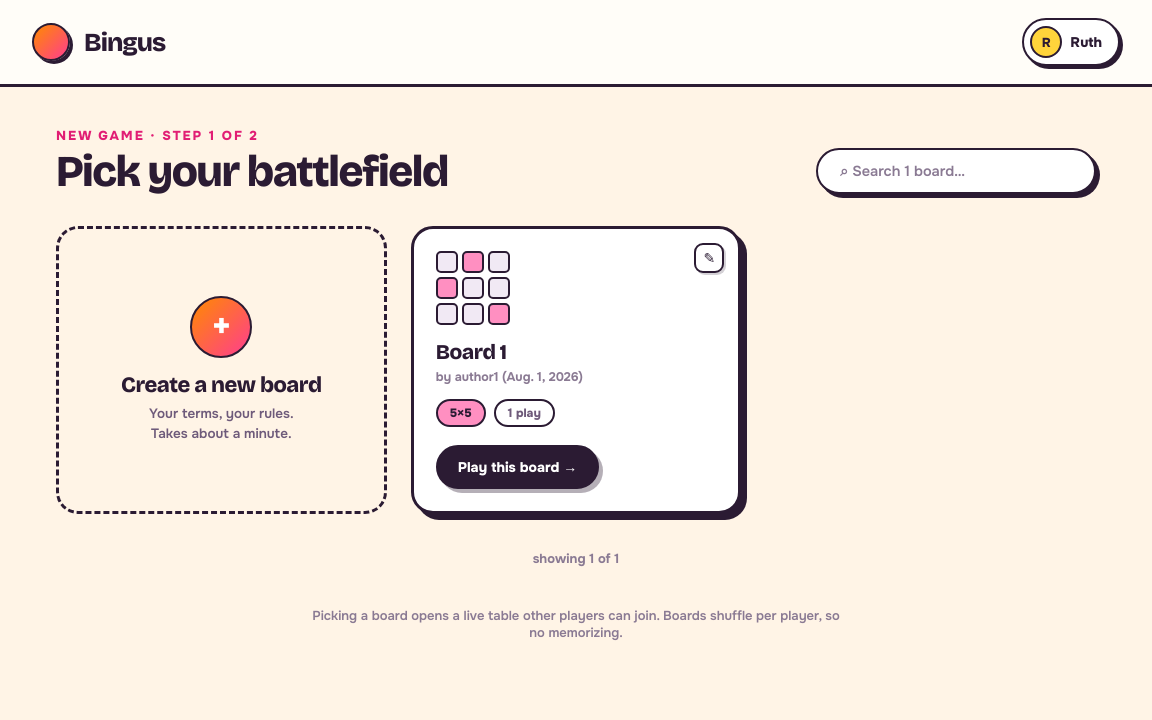
board archive › shows the no-match copy for an empty search result
This screenshot has width=1152, height=720.
Check: the heading "Board 1" is shown, box [436,339,507,365]
Step 1. Type "zzzzz" into the search field named "Search boards" → (956, 171), box [816,148,1096,194]
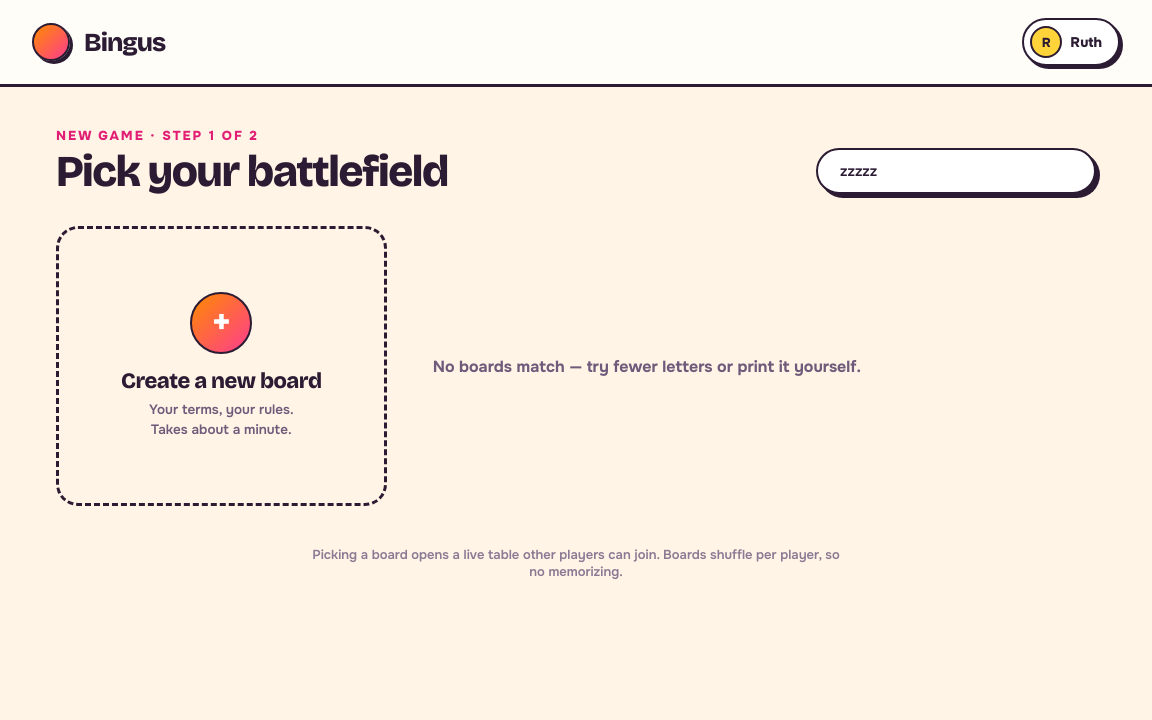
Check: the text "No boards match — try fewer letters or print it yourself." is shown, box [433,356,861,376]
